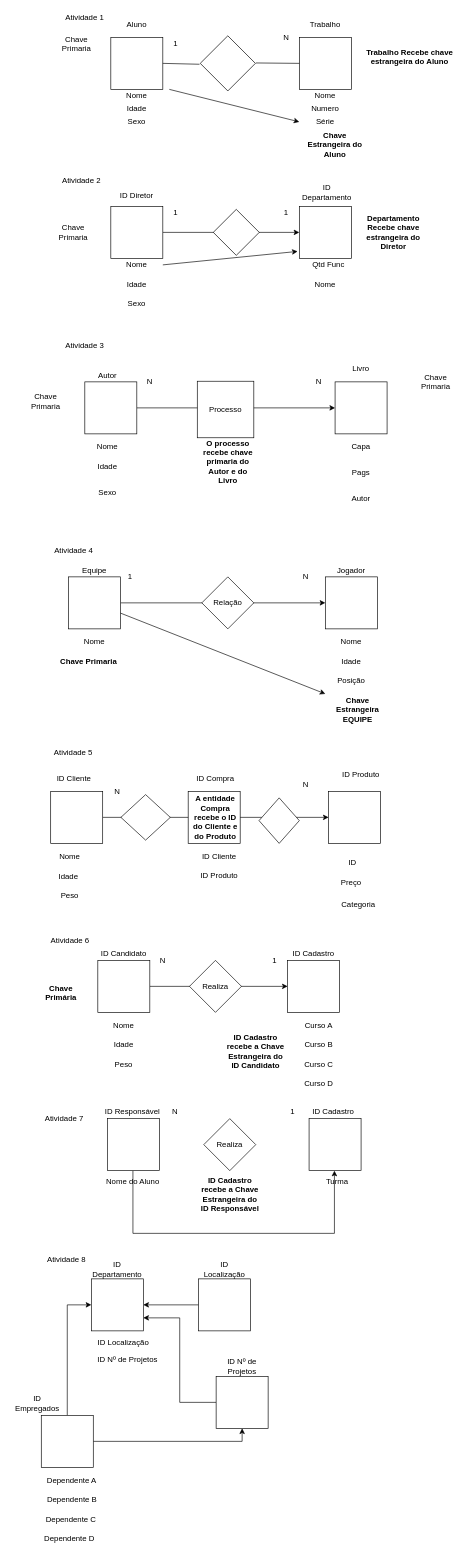
The diagram is 473 pixels wide and 1556 high, and some of its shapes have lost their labels. Here are the shapes that lost their labels. From the top down, the box of each, then its label:
(199, 35, 256, 91): Faz
(212, 209, 259, 255): Comanda
